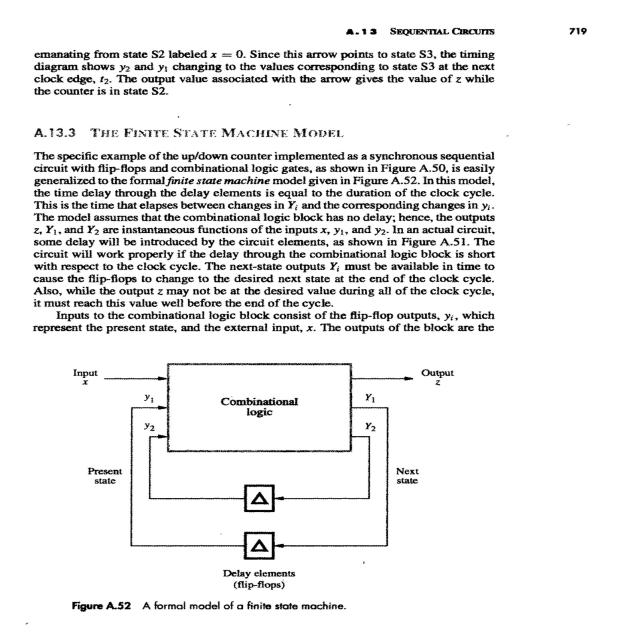diagram: (36, 338, 569, 619)
